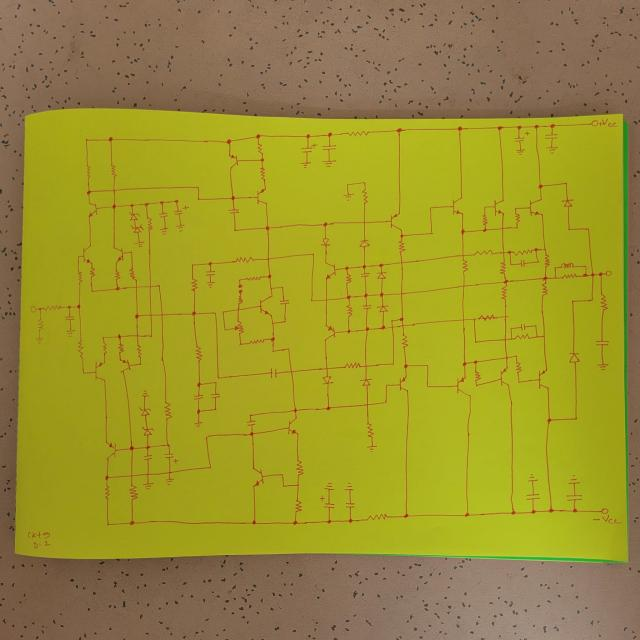capacitor: (318, 494, 336, 509), (512, 130, 530, 144), (172, 205, 190, 219), (300, 142, 318, 154), (162, 452, 178, 464), (566, 491, 583, 502), (321, 143, 337, 154), (594, 339, 610, 349), (526, 491, 540, 501), (543, 132, 558, 141), (268, 366, 278, 378), (192, 392, 204, 402), (358, 272, 371, 280), (246, 418, 256, 428), (159, 210, 169, 220), (63, 315, 75, 323), (278, 299, 290, 307), (227, 207, 240, 214), (142, 453, 152, 462), (211, 391, 220, 400), (205, 270, 215, 278), (518, 258, 526, 267), (361, 304, 372, 310), (346, 501, 355, 508), (520, 322, 526, 331)
crossover: (322, 297, 330, 303), (128, 473, 136, 479), (143, 472, 150, 478), (398, 290, 404, 296), (498, 226, 504, 232), (133, 284, 139, 290), (504, 354, 510, 360), (166, 470, 172, 476), (364, 402, 370, 407), (147, 283, 153, 288), (134, 333, 140, 338), (111, 187, 116, 193), (400, 323, 405, 328), (398, 260, 404, 264), (501, 337, 507, 341), (324, 366, 330, 370), (158, 312, 164, 316), (461, 284, 466, 288), (462, 317, 466, 322), (362, 220, 367, 224), (265, 256, 270, 260), (364, 363, 368, 368), (148, 312, 152, 317), (461, 253, 465, 257), (236, 307, 240, 311), (390, 325, 394, 329), (289, 370, 293, 373)
diode: (567, 350, 582, 364), (136, 405, 151, 418), (560, 197, 576, 209), (320, 374, 334, 387), (126, 210, 140, 222), (129, 223, 143, 235), (359, 377, 373, 388), (358, 238, 370, 249), (376, 304, 388, 315), (320, 236, 332, 247), (142, 426, 153, 437), (376, 270, 386, 280)
ground: (321, 158, 338, 168), (567, 475, 582, 486), (545, 145, 558, 155), (595, 362, 611, 370), (299, 160, 313, 169), (64, 326, 74, 338), (526, 473, 538, 483), (343, 481, 355, 491), (342, 192, 353, 202), (323, 482, 335, 491), (158, 227, 170, 236), (144, 481, 154, 491), (140, 388, 150, 398), (514, 148, 525, 156), (366, 444, 377, 452), (133, 240, 144, 248), (36, 336, 44, 346), (175, 224, 185, 232), (205, 282, 216, 288), (192, 421, 203, 427), (166, 478, 173, 487)
inductor: (560, 261, 574, 269)
junction: (106, 135, 114, 143), (402, 512, 410, 520), (254, 132, 262, 140), (395, 126, 403, 134), (324, 404, 332, 412), (456, 125, 464, 132), (570, 507, 578, 514), (133, 312, 140, 320), (225, 138, 232, 145), (128, 519, 135, 526), (85, 188, 92, 195), (496, 125, 503, 132), (229, 194, 236, 201), (549, 122, 556, 129), (546, 416, 552, 424), (264, 224, 270, 232), (164, 442, 172, 448), (547, 507, 554, 513), (326, 132, 333, 138), (464, 511, 471, 517), (128, 444, 134, 451), (461, 360, 467, 367), (347, 518, 354, 524), (383, 382, 389, 389), (530, 508, 536, 515), (533, 124, 540, 130), (378, 290, 384, 297), (104, 474, 110, 481), (326, 518, 332, 524), (292, 520, 298, 526), (572, 416, 578, 422), (510, 509, 516, 515), (538, 182, 544, 188), (251, 519, 257, 525), (322, 221, 328, 227), (105, 521, 111, 527), (402, 362, 408, 368), (424, 383, 430, 389), (428, 230, 434, 236), (191, 310, 197, 316), (588, 297, 594, 303), (83, 136, 89, 142), (266, 272, 272, 278), (516, 124, 522, 130), (304, 133, 310, 139), (361, 263, 367, 269), (378, 262, 384, 268), (362, 292, 368, 298), (346, 328, 352, 334), (380, 326, 386, 332), (398, 316, 404, 322), (259, 157, 265, 163), (211, 310, 217, 316), (222, 326, 228, 332), (196, 382, 202, 388), (211, 380, 217, 386), (212, 406, 218, 412), (128, 203, 135, 208), (144, 444, 151, 449), (114, 286, 120, 291), (427, 205, 433, 210), (80, 370, 86, 375), (286, 346, 291, 352), (563, 181, 569, 186), (460, 228, 465, 234), (294, 482, 299, 488), (282, 319, 288, 324), (345, 264, 350, 270), (364, 327, 370, 332), (270, 336, 276, 341), (279, 284, 284, 290), (270, 320, 275, 326), (502, 279, 508, 284), (533, 246, 538, 252), (534, 333, 539, 339), (516, 379, 522, 384), (482, 228, 487, 234), (158, 200, 164, 205), (143, 201, 149, 206), (75, 304, 81, 309), (474, 338, 479, 344), (248, 431, 254, 436), (391, 361, 397, 366), (270, 348, 276, 353), (194, 408, 200, 413), (207, 261, 213, 266), (345, 182, 350, 187), (399, 233, 404, 238), (590, 272, 595, 277), (583, 272, 588, 277), (552, 265, 557, 270), (541, 333, 546, 338), (149, 333, 154, 338), (238, 341, 243, 346), (216, 374, 221, 379), (137, 361, 142, 366), (586, 226, 590, 232), (204, 434, 210, 438), (232, 228, 238, 232), (346, 294, 350, 300), (310, 297, 314, 303), (541, 276, 547, 280), (506, 250, 512, 254), (509, 326, 513, 332), (66, 305, 72, 309), (116, 334, 122, 338), (38, 306, 42, 312), (383, 400, 389, 404), (292, 408, 298, 412), (220, 310, 226, 314), (190, 262, 194, 268), (208, 465, 212, 470), (566, 227, 571, 231), (425, 363, 430, 367), (282, 483, 286, 488), (570, 299, 575, 303), (361, 180, 366, 184), (311, 252, 316, 256), (237, 277, 242, 281), (598, 272, 603, 276), (583, 264, 587, 269), (553, 275, 558, 279), (533, 324, 537, 329), (514, 225, 518, 230), (174, 198, 178, 203), (112, 203, 116, 208), (196, 185, 200, 190), (196, 196, 200, 201), (101, 336, 106, 340), (76, 254, 80, 259), (473, 360, 478, 364), (474, 383, 479, 387), (248, 413, 252, 418), (269, 286, 273, 290), (542, 246, 546, 250), (536, 259, 540, 263), (509, 262, 513, 266), (509, 337, 513, 341), (514, 354, 518, 358), (157, 284, 161, 288), (90, 289, 94, 293), (472, 317, 476, 321), (503, 314, 507, 318), (279, 472, 283, 476), (390, 318, 394, 322), (513, 207, 517, 210), (129, 250, 133, 253), (483, 206, 486, 210)
resistor: (232, 318, 246, 336), (161, 400, 172, 420), (364, 512, 390, 520), (598, 293, 608, 313), (345, 130, 370, 138), (193, 346, 204, 363), (399, 332, 409, 350), (75, 340, 85, 358), (144, 218, 154, 235), (233, 256, 254, 264), (472, 248, 493, 256), (365, 422, 374, 440), (539, 282, 549, 298), (499, 285, 508, 302), (295, 458, 303, 477), (343, 361, 362, 369), (258, 165, 266, 184), (244, 274, 262, 282), (134, 343, 144, 357), (293, 498, 302, 513), (396, 240, 406, 253), (100, 342, 110, 355), (514, 333, 530, 341), (85, 163, 93, 179), (514, 248, 532, 255), (514, 361, 522, 376), (478, 314, 498, 320), (542, 254, 551, 267), (473, 369, 482, 382), (128, 267, 137, 280), (44, 305, 63, 311), (346, 303, 354, 317), (361, 189, 368, 205), (190, 278, 198, 292), (460, 259, 468, 273), (108, 163, 116, 177), (76, 270, 84, 284), (104, 484, 110, 502), (343, 273, 352, 285), (498, 261, 507, 273), (112, 268, 121, 280), (88, 266, 97, 277), (250, 338, 266, 344), (35, 318, 43, 330), (256, 142, 264, 154), (561, 273, 577, 279), (235, 294, 243, 305), (117, 343, 124, 354), (481, 214, 488, 225), (514, 212, 520, 222)
terminal: (600, 506, 610, 514), (236, 283, 243, 294), (590, 118, 599, 126), (29, 305, 36, 313), (606, 270, 612, 277)
text: (592, 514, 620, 524), (599, 116, 618, 128)
transistor: (101, 438, 120, 462), (454, 372, 471, 398), (257, 294, 274, 318), (91, 359, 108, 383), (248, 464, 265, 488), (536, 367, 553, 390), (254, 187, 272, 207), (321, 321, 336, 344), (490, 199, 508, 218), (528, 198, 546, 217), (450, 196, 466, 217), (323, 259, 337, 282), (286, 416, 302, 436), (80, 242, 93, 266), (498, 365, 511, 389), (117, 357, 133, 375), (389, 210, 403, 230), (226, 152, 240, 170), (85, 201, 98, 220), (397, 374, 409, 394), (114, 247, 125, 264)
